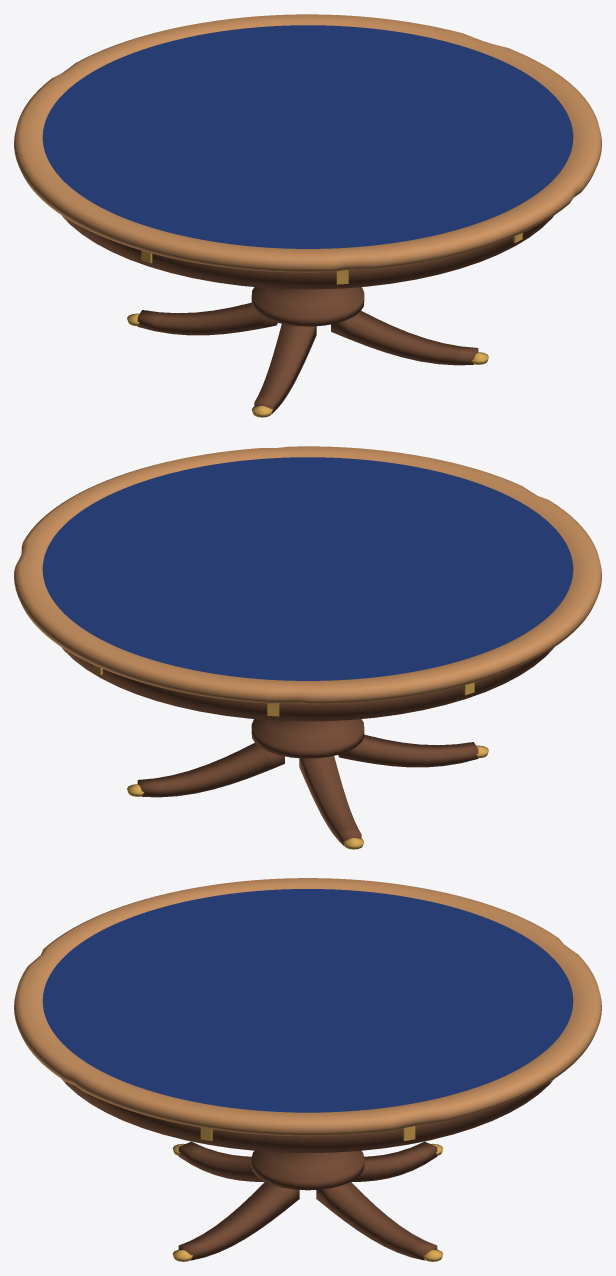
File: table.glb
3 views of the same model, one above another, from view 1: azimuth 30°, elevation 25°; view 2: azimuth 150°, elevation 25°; view 3: azimuth 270°, elevation 25° (orthographic).
Visible parts, largest first — view 1: Table; view 2: Table; view 3: Table.
Boxes of the visible parts, bbox=[...] form: Table: bbox=[14, 14, 601, 417]; Table: bbox=[14, 446, 601, 849]; Table: bbox=[14, 878, 601, 1261].
Bounding box in the file's own units: 2.5 × 0.9804 × 2.5.
